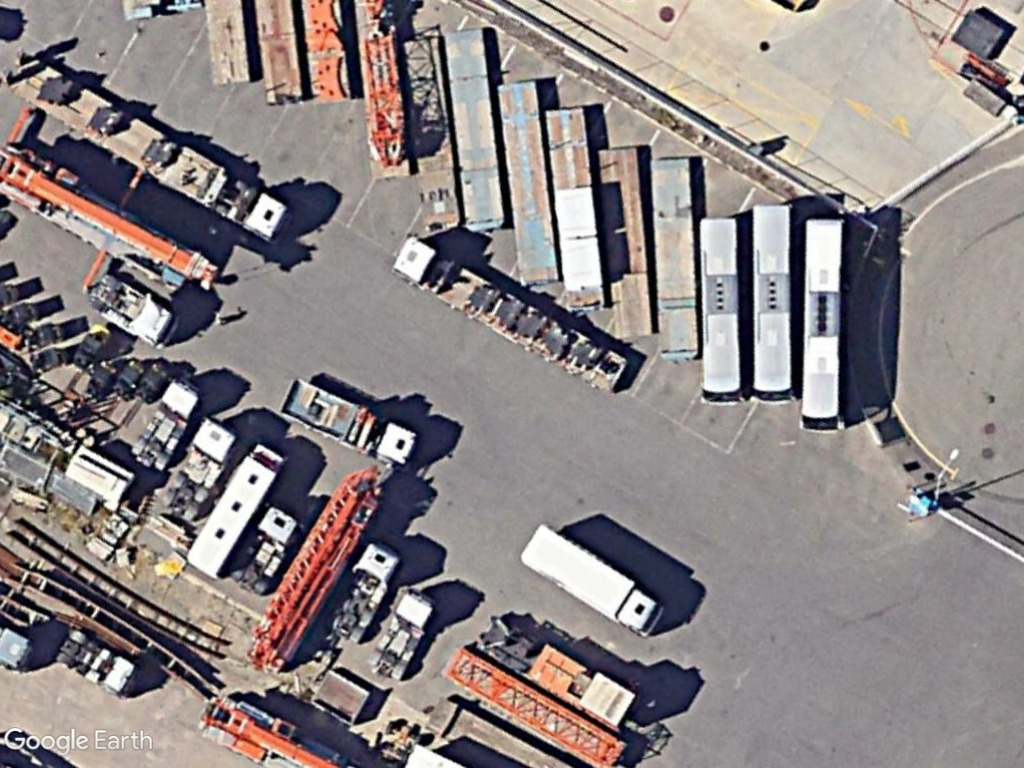bus: (795, 211, 849, 437), (748, 199, 797, 409), (696, 211, 743, 410)
truck: (515, 517, 667, 639), (182, 441, 283, 582)
